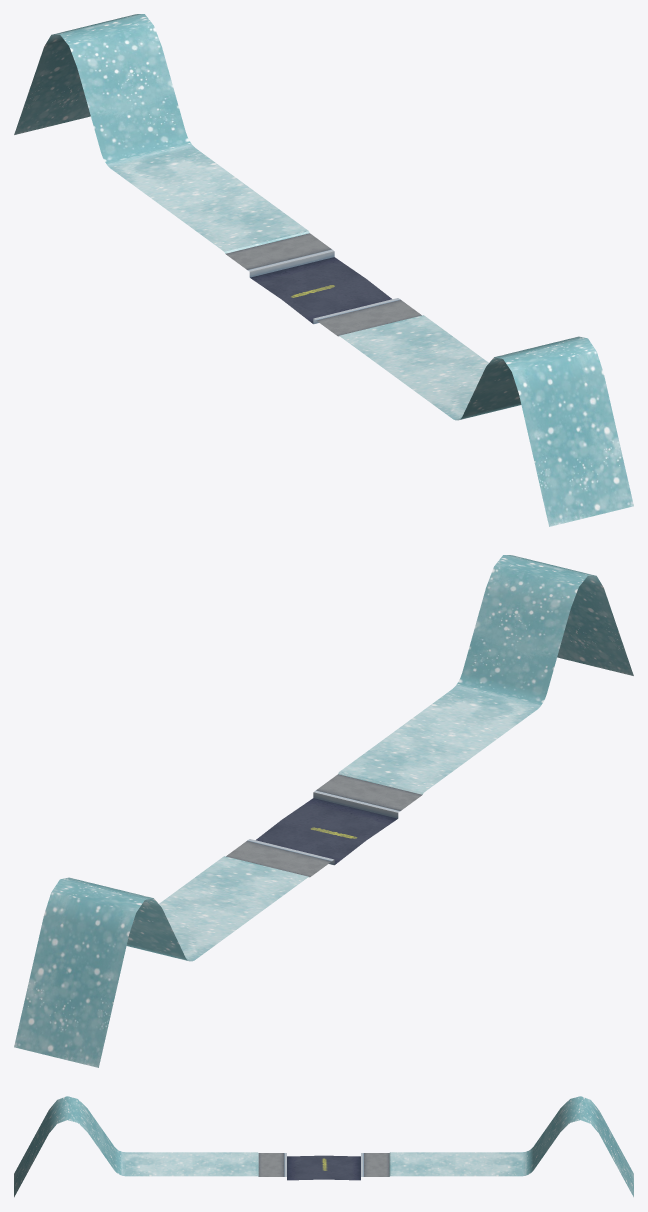
File: street.fbx
3 renders of one model, top to bottom at view 1: azimuth 30°, elevation 25°; view 2: azimuth 150°, elevation 25°; view 3: azimuth 270°, elevation 25°, orthographic. The views are drawn at different scales.
Visible parts, largest first — view 1: Plane.001; view 2: Plane.001; view 3: Plane.001.
Boxes of the visible parts, box(x1,y1,x2,y2) form: Plane.001: box(14, 14, 633, 526); Plane.001: box(14, 555, 633, 1067); Plane.001: box(14, 1096, 633, 1197).
Bounding box in the file's own units: 769 × 1162 × 8400.
4 materials, 4 textured.
